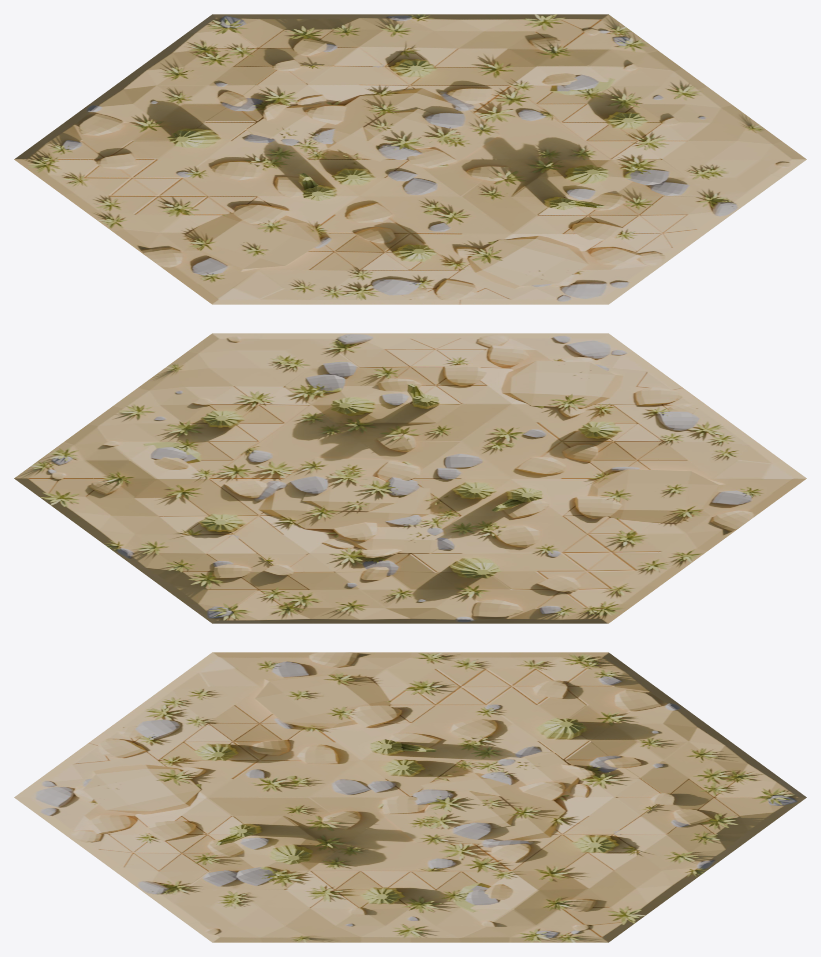
Rendered from subtropicalDesert.glb.
The picture shows the model from 3 angles, top to bottom: view 1: azimuth 30°, elevation 25°; view 2: azimuth 150°, elevation 25°; view 3: azimuth 270°, elevation 25°; orthographic projection.
Parts seen in each view (by area): view 1: Deciduousforest_flat; view 2: Deciduousforest_flat; view 3: Deciduousforest_flat.
Boxes of the visible parts, x1,y1,x2,y2 form: Deciduousforest_flat: (14,14,806,304); Deciduousforest_flat: (14,333,806,623); Deciduousforest_flat: (14,652,806,942).
Bounding box in the file's own units: 1.73 × 0 × 2.
Materials: 1 (1 with a texture image).
